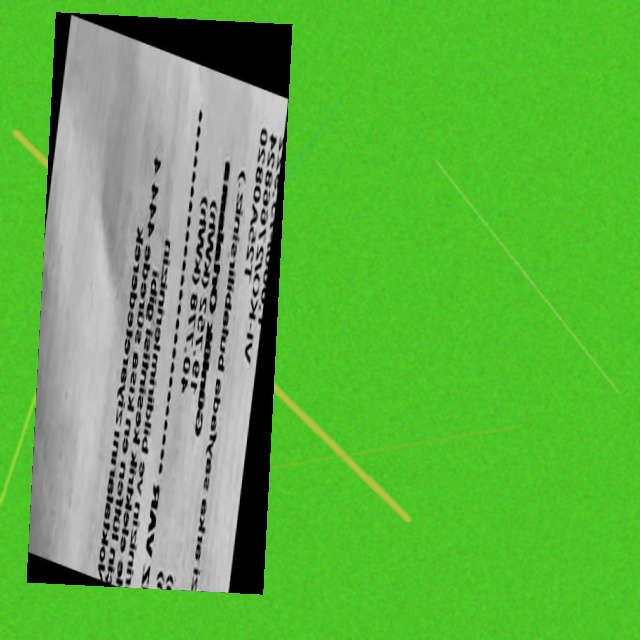electricity-bill: (27, 12, 293, 595)
